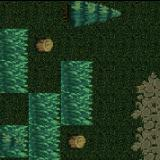Obstacle: (29, 27, 61, 59), (62, 125, 94, 157), (60, 0, 93, 27)
Slow: (28, 92, 62, 160), (61, 60, 92, 125), (0, 28, 28, 91), (0, 124, 29, 156)
